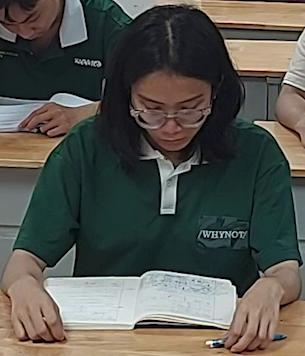Reading: (10, 5, 302, 347)
